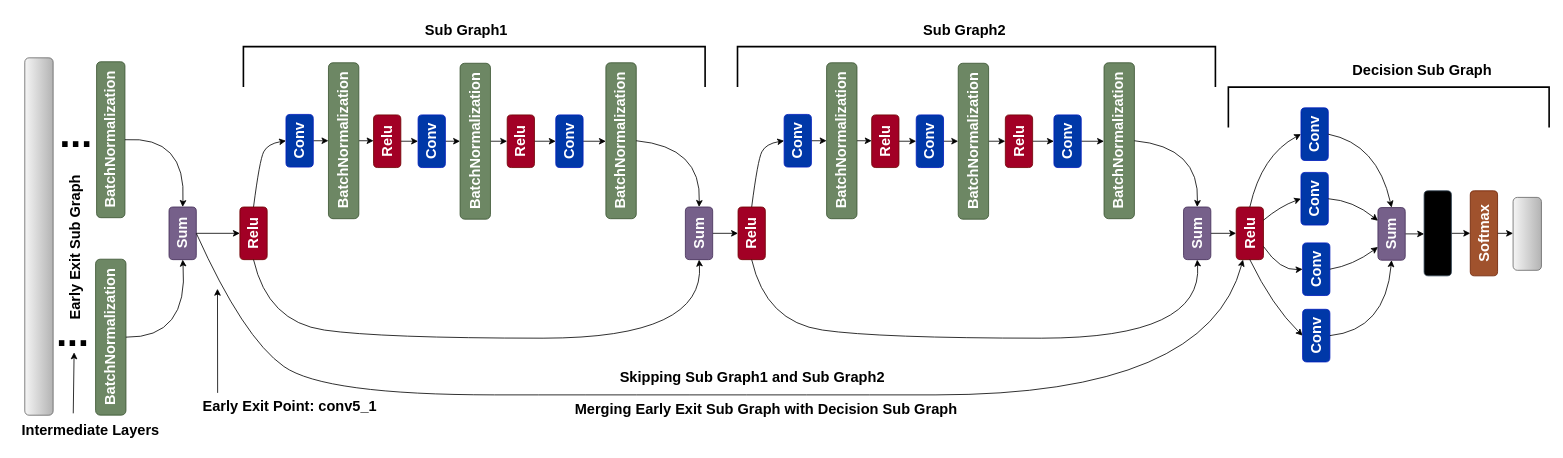
Image size: 1563x458. Some labels were removed from this diagram. The shapes that lost their labels are listed below. From the top down, each one's box as (x1, y1, x2, y2) in pixels, then its label:
(24, 57, 53, 415): Input
(1423, 190, 1451, 276): Reshape
(1512, 197, 1541, 270): Output
